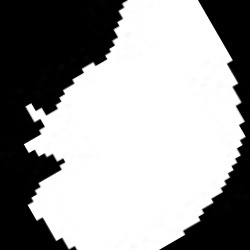spot: (24, 3, 244, 248)
